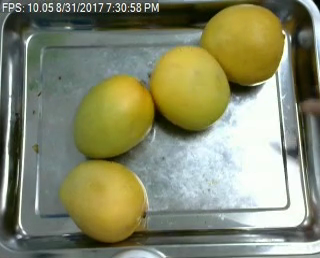Mango: (60, 161, 148, 242), (150, 45, 230, 131), (200, 5, 283, 86), (74, 76, 154, 159)
